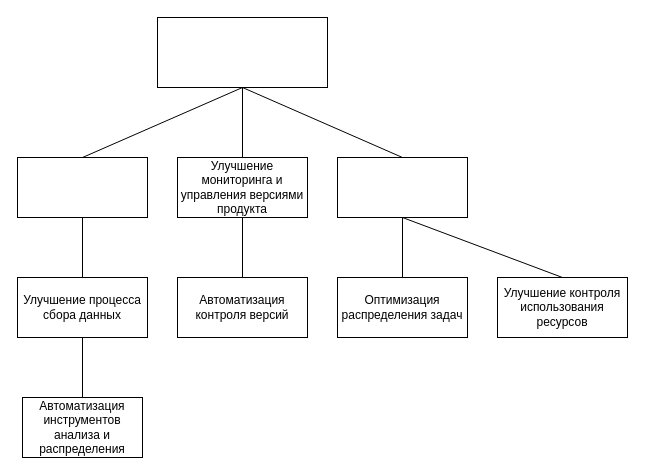
Image size: 645x475. Some labels were removed from this diagram. The centre of each missing label's shape, as x and y in pixels:
Оптимизация процессов сбора и анализа требований: [82,187]
Повышение эффективности управления проектами: [402,187]
Повышение эффективности управления разработками цифровой компании: [242,52]
